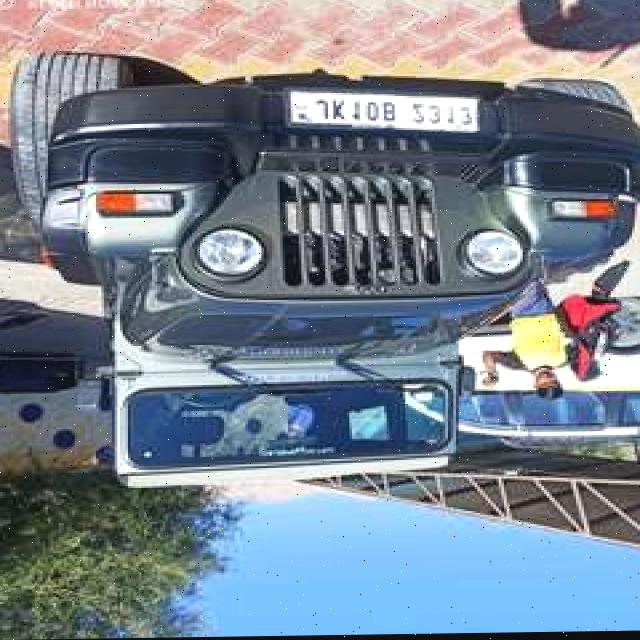plate: (285, 84, 481, 136)
